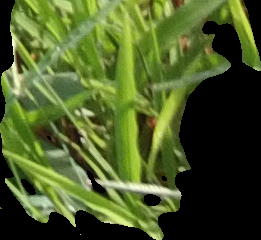grass: (1, 1, 260, 239)
